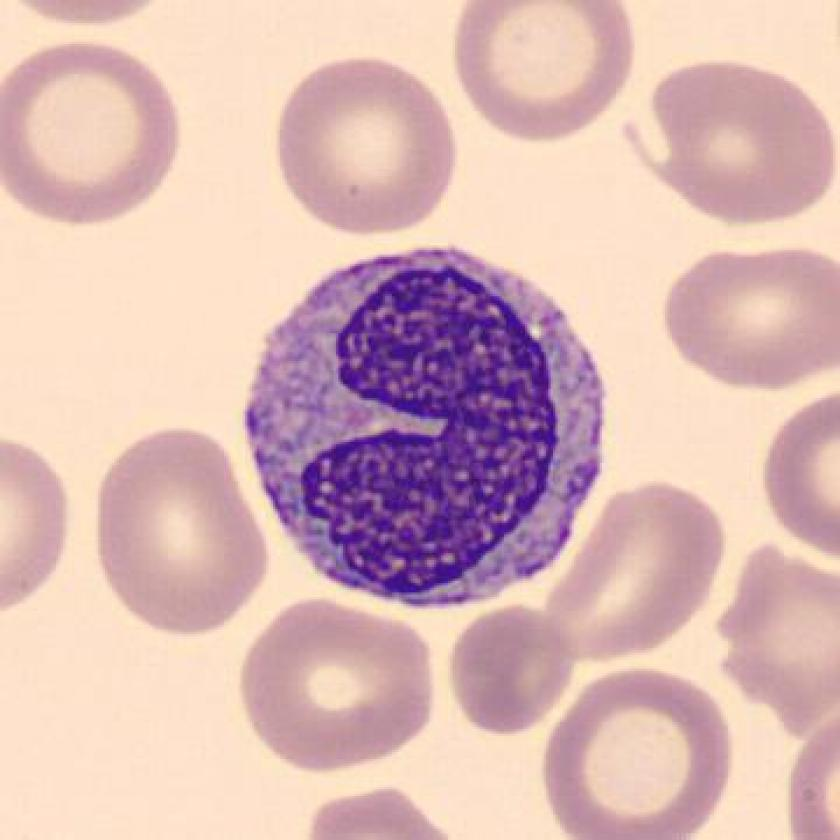monocyte: (223, 233, 631, 622)
